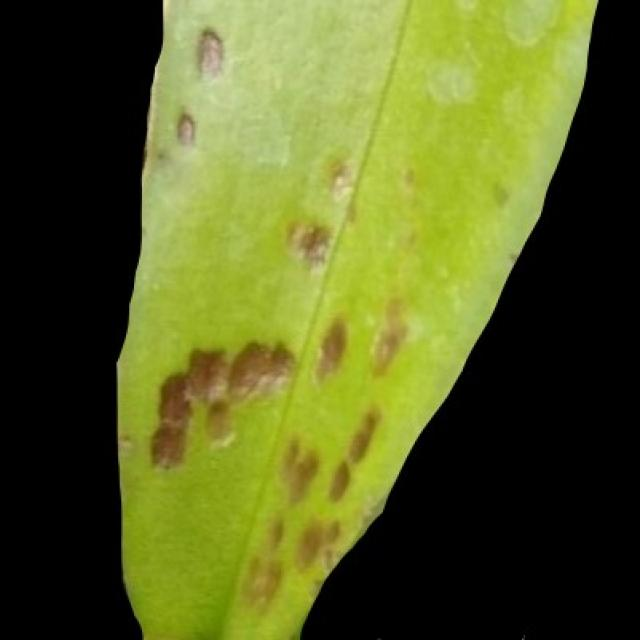mite: (142, 18, 386, 626), (227, 337, 295, 402), (239, 554, 284, 608), (345, 404, 381, 464), (166, 102, 203, 153), (326, 458, 353, 503), (174, 110, 196, 145)
spots: (112, 0, 606, 638)
sunburn: (144, 334, 298, 474)
